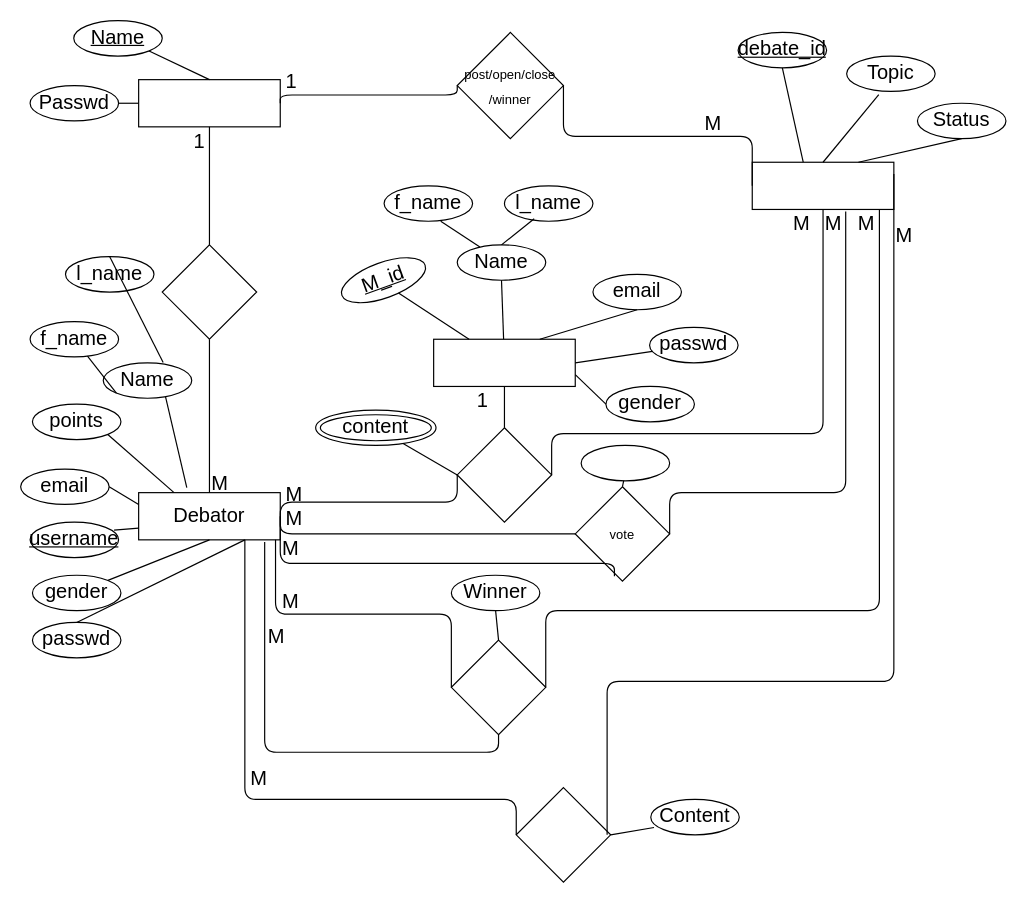
The diagram is 1027 pixels wide and 903 high, and some of its shapes have lost their labels. Here are the shapes that lost their labels. From the top down, the box of each, then its label:
(137, 78, 280, 127): Admin
(751, 161, 894, 209): Debate
(161, 244, 257, 339): add/remove
(432, 338, 575, 386): Moderator
(456, 427, 552, 522): Manages
(580, 444, 670, 481): up/down
(450, 639, 546, 735): Challenge
(515, 786, 611, 882): comment
